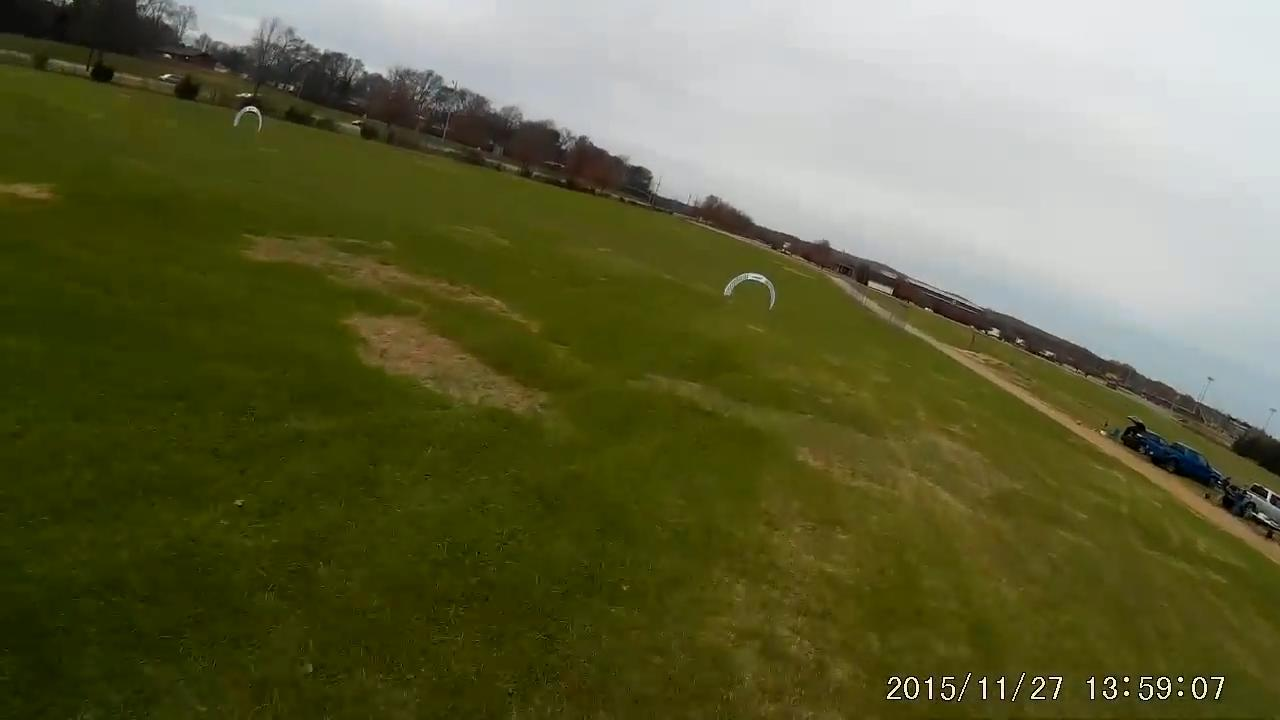gate: (722, 270, 778, 317)
